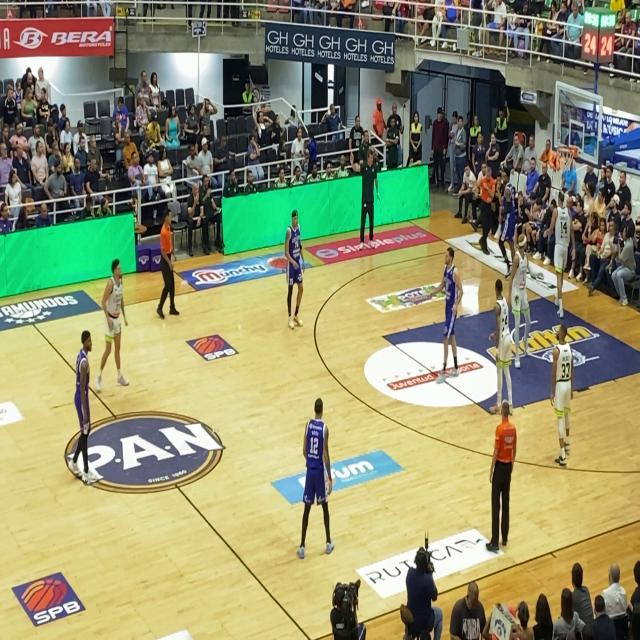referee: (482, 393, 517, 567), (141, 203, 187, 334), (470, 151, 498, 264)
team1: (96, 253, 131, 402), (482, 276, 522, 406), (543, 319, 577, 470), (545, 186, 578, 323), (506, 215, 534, 369)
team2: (289, 386, 339, 564), (64, 314, 98, 492), (430, 242, 468, 390), (275, 200, 313, 346), (490, 165, 519, 265)
ubasket: (557, 144, 575, 174)
